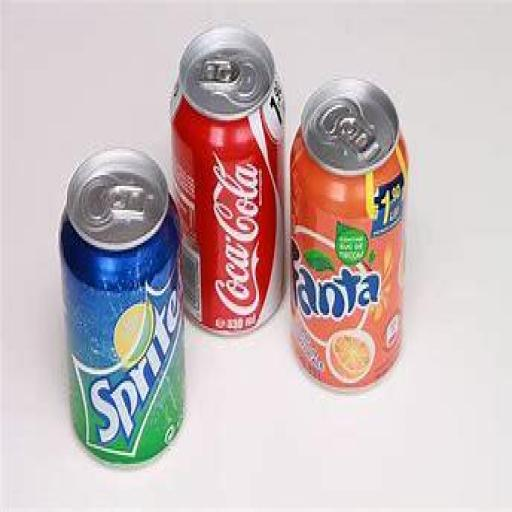can: (58, 144, 189, 475), (290, 76, 411, 394), (168, 22, 288, 338)
pop tab: (340, 116, 380, 159), (109, 184, 146, 218), (199, 57, 240, 85)
